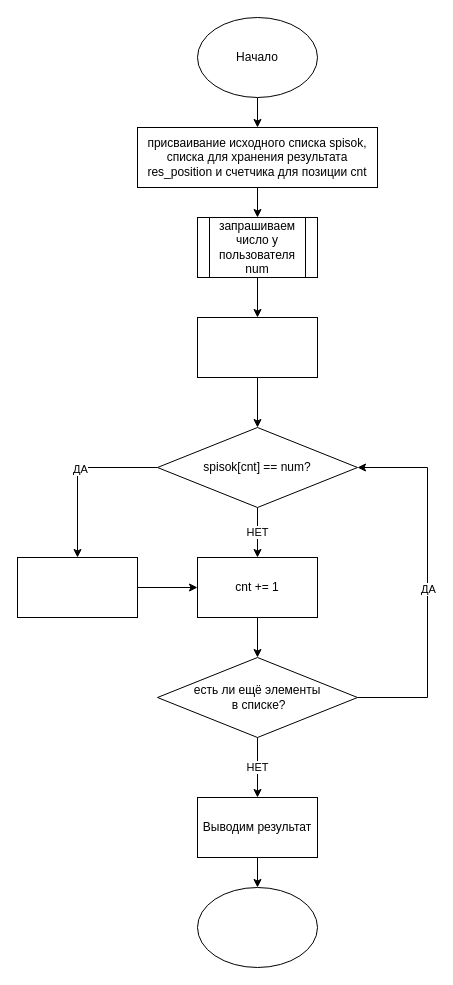
Some shapes in this 453 by 985 pixel diagram are drawn without their labels. The shapes that lost their labels are listed below. From the top down, each one's centre as x and y in pixels, then its label:
point 257,347: переводим в int
point 77,587: Добавляем cnt к res_position
point 257,927: Конец
